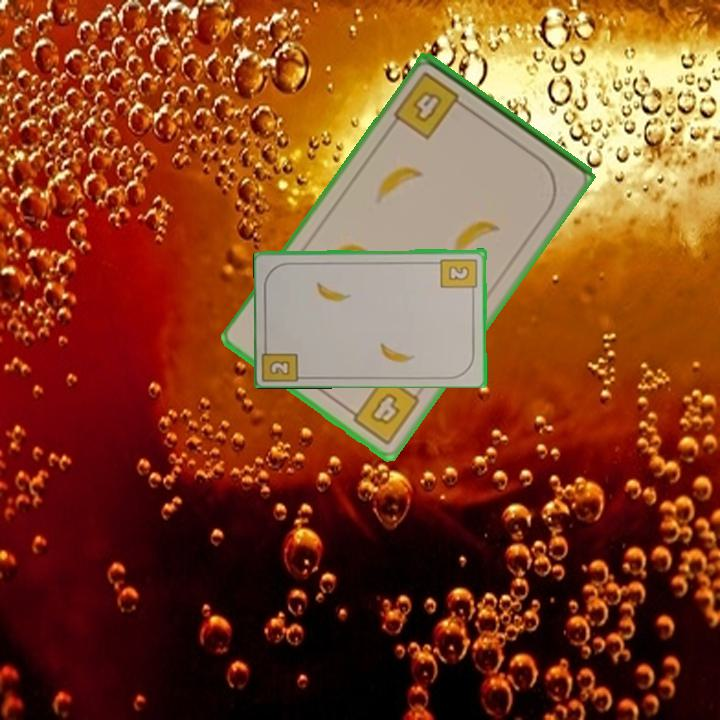2b: (261, 338, 303, 383), (438, 255, 480, 297)
4b: (341, 372, 423, 448), (390, 68, 472, 143)
